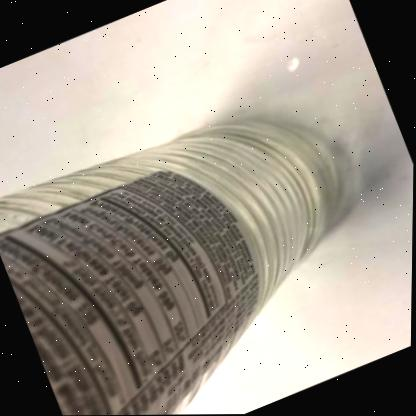Glass: (0, 122, 340, 416)
